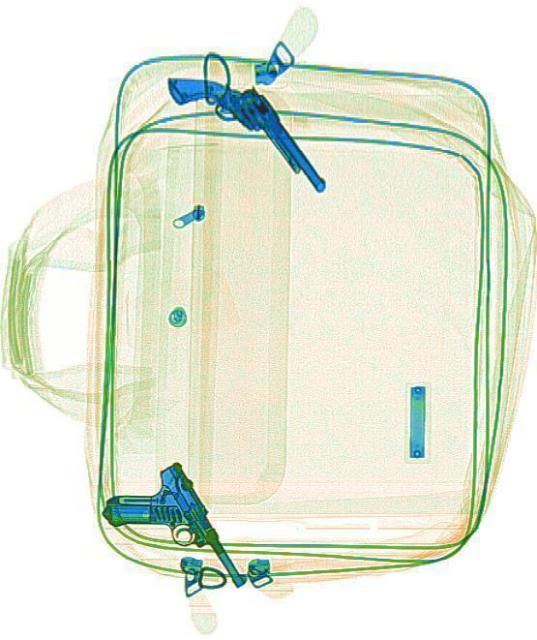Gun: (159, 33, 326, 233), (98, 454, 246, 630)
